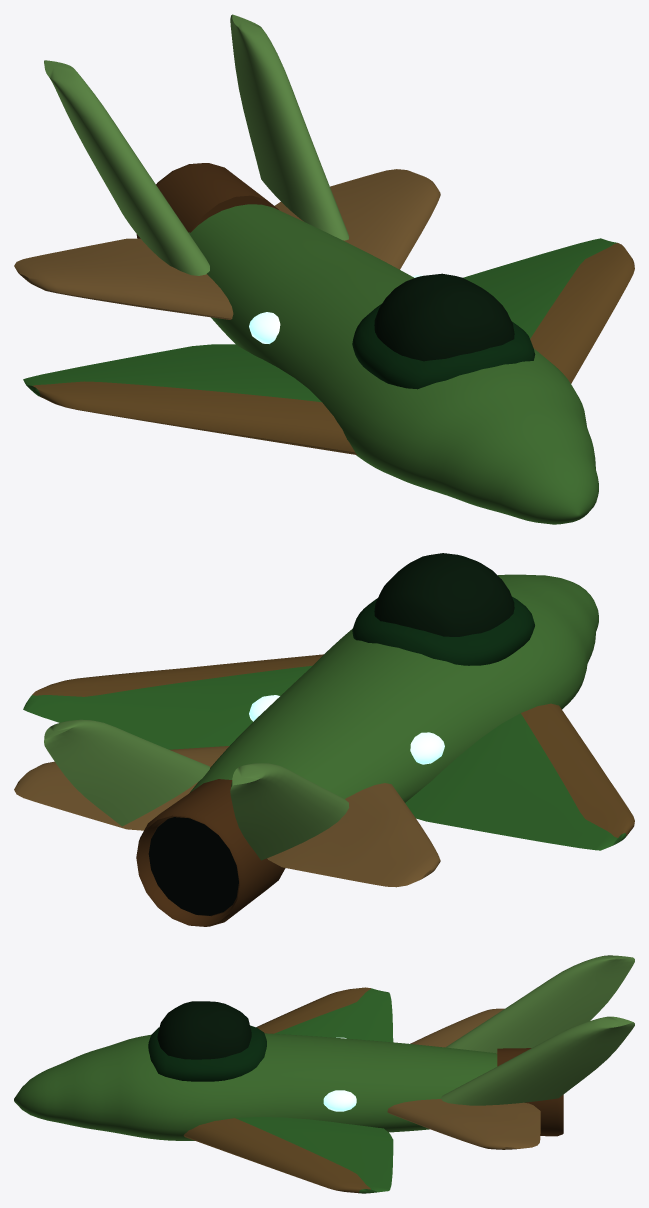
File: jet_twin_tail.glb
3 views of the same model, one above another, from view 1: azimuth 30°, elevation 25°; view 2: azimuth 150°, elevation 25°; view 3: azimuth 270°, elevation 25° (orthographic). The views are drawn at different scales.
Parts seen in each view (by area): view 1: fuselage, wing_l, wing_r, fin_r, tail_l, fin_l, glass, tail_r, frame, nozzle, light_l; view 2: fuselage, wing_l, wing_r, fin_r, tail_l, glass, fin_l, nozzle, nozzle_core, frame, tail_r, light_l; view 3: fuselage, wing_r, fin_r, fin_l, tail_r, wing_l, glass, frame, nozzle, tail_l, light_r.
Boxes of the visible parts, bbox=[...] form: fuselage: bbox=[188, 204, 598, 524]; wing_l: bbox=[23, 344, 356, 454]; wing_r: bbox=[463, 238, 634, 383]; fin_r: bbox=[230, 14, 348, 240]; tail_l: bbox=[14, 238, 233, 319]; fin_l: bbox=[44, 60, 209, 275]; glass: bbox=[374, 273, 514, 361]; tail_r: bbox=[275, 169, 440, 269]; frame: bbox=[352, 304, 535, 389]; nozzle: bbox=[136, 163, 278, 238]; light_l: bbox=[249, 312, 280, 343]; fuselage: bbox=[190, 574, 598, 802]; wing_l: bbox=[405, 703, 634, 850]; wing_r: bbox=[23, 654, 323, 749]; fin_r: bbox=[44, 719, 209, 826]; tail_l: bbox=[267, 783, 440, 887]; glass: bbox=[374, 553, 514, 636]; fin_l: bbox=[230, 763, 349, 860]; nozzle: bbox=[136, 779, 285, 926]; nozzle_core: bbox=[148, 817, 238, 915]; frame: bbox=[352, 596, 534, 665]; tail_r: bbox=[14, 746, 229, 830]; light_l: bbox=[410, 732, 444, 764]; fuselage: bbox=[14, 1033, 497, 1140]; wing_r: bbox=[183, 1117, 393, 1193]; fin_r: bbox=[440, 1016, 634, 1105]; fin_l: bbox=[445, 955, 634, 1052]; tail_r: bbox=[387, 1099, 540, 1149]; wing_l: bbox=[256, 987, 393, 1042]; glass: bbox=[157, 1001, 251, 1059]; frame: bbox=[148, 1025, 266, 1081]; nozzle: bbox=[497, 1048, 563, 1136]; tail_l: bbox=[410, 1008, 504, 1053]; light_r: bbox=[323, 1090, 356, 1111].
Bounding box in the file's own units: 19.42 × 6.48 × 25.25.
